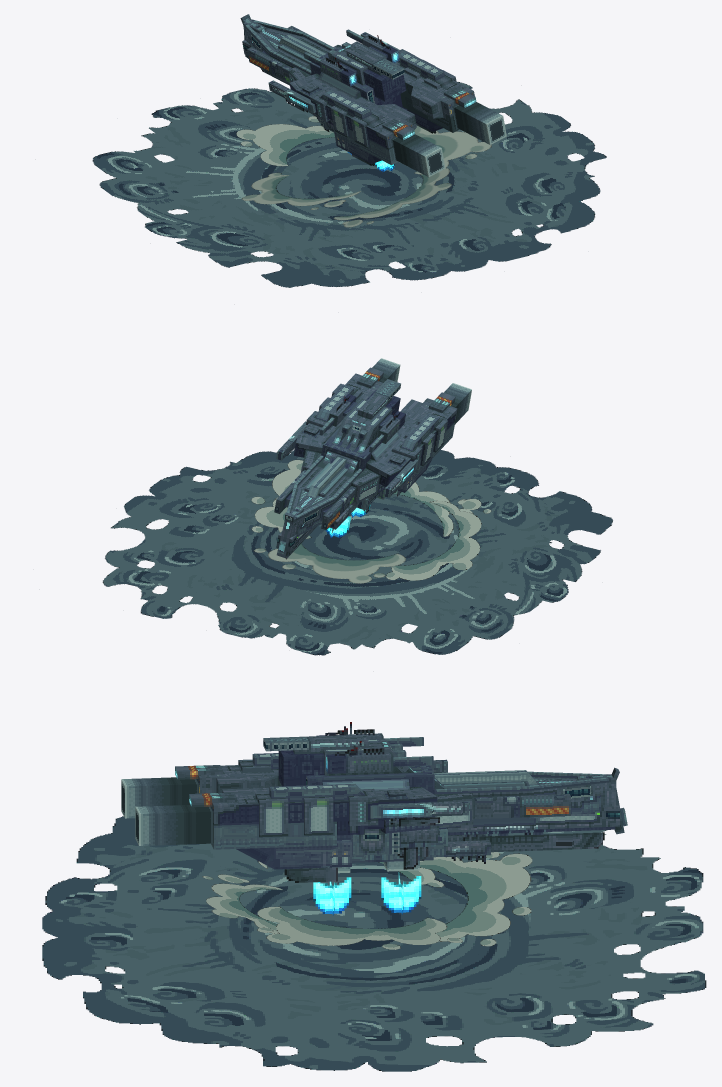
File: the_wayfarer.glb
3 renders of one model, top to bottom at view 1: azimuth 30°, elevation 25°; view 2: azimuth 150°, elevation 25°; view 3: azimuth 270°, elevation 25°, orthographic. The views are drawn at different scales.
Parts seen in each view (by area): view 1: f0af2c5b-dc88-9ddf-b12d-e9630bfd9f96_0, 57337715-59b6-47ca-5ea9-e45e10513886_1, 3dc7dacf-1174-3ba0-c5ff-b0350326ae19_64, 20b73ca1-e7a4-25a7-290d-132799c72fa2_116, 27414f4b-f03e-3735-3f29-a169fc724f23_106, 3848943b-f07e-7232-0a9d-2da7b2187db6_4, 2e194be0-fc9f-4411-7cf4-ac884b552e11_3, 6e76ca55-8b41-b06e-4679-48dc26ff2766_2, d2c0f4ea-a283-9221-ec81-6e6d94c30ba3_68, df5c3a24-41ef-8e7f-8703-fd2f319c1639_26, 2bd50681-401c-4cc3-daf6-1001cb3e12d5_89, 6c488368-3169-f9b1-7eda-4d796c74d6b3_118 (+9 smaller); view 2: f0af2c5b-dc88-9ddf-b12d-e9630bfd9f96_0, 3848943b-f07e-7232-0a9d-2da7b2187db6_4, 57337715-59b6-47ca-5ea9-e45e10513886_1, 2e194be0-fc9f-4411-7cf4-ac884b552e11_3, 27414f4b-f03e-3735-3f29-a169fc724f23_106, 6e76ca55-8b41-b06e-4679-48dc26ff2766_2, fc734b36-bef9-b11f-2d82-0fcc9bb78a55_10, d2c0f4ea-a283-9221-ec81-6e6d94c30ba3_68, 808dd24b-d764-b896-6e3c-7eceed1c6f6b_18, e6f9e6f7-5bd8-29c7-bd6b-326e3d14ffea_92, f7f22e47-a4b3-5bc3-2a0b-1f0e3896bd8a_86, 6f502372-32f2-76c3-6118-f8da0c2b88fb_29 (+3 smaller); view 3: f0af2c5b-dc88-9ddf-b12d-e9630bfd9f96_0, 57337715-59b6-47ca-5ea9-e45e10513886_1, 2e194be0-fc9f-4411-7cf4-ac884b552e11_3, 3dc7dacf-1174-3ba0-c5ff-b0350326ae19_64, d2c0f4ea-a283-9221-ec81-6e6d94c30ba3_68, c78c838b-dc5d-9d07-3f45-9cb386e99f46_50, 20b73ca1-e7a4-25a7-290d-132799c72fa2_116, 89408835-4c3d-7d26-6925-7b0ce92ea5c2_53, 12ef6714-a52f-1508-75ce-2afa383ee228_17, c8cb1846-3f8b-578d-3ea7-d7eb4e18bda9_65, 6e76ca55-8b41-b06e-4679-48dc26ff2766_2, 7b69b814-ecab-a9fd-2702-9100716ac446_12 (+25 smaller).
Part boxes in pixels (<box>): f0af2c5b-dc88-9ddf-b12d-e9630bfd9f96_0: <box>92,82,606,287</box>; 57337715-59b6-47ca-5ea9-e45e10513886_1: <box>236,116,334,166</box>; 3dc7dacf-1174-3ba0-c5ff-b0350326ae19_64: <box>453,102,506,144</box>; 20b73ca1-e7a4-25a7-290d-132799c72fa2_116: <box>392,134,445,177</box>; 27414f4b-f03e-3735-3f29-a169fc724f23_106: <box>296,79,413,149</box>; 3848943b-f07e-7232-0a9d-2da7b2187db6_4: <box>242,172,360,209</box>; 2e194be0-fc9f-4411-7cf4-ac884b552e11_3: <box>414,125,491,174</box>; 6e76ca55-8b41-b06e-4679-48dc26ff2766_2: <box>333,168,451,227</box>; d2c0f4ea-a283-9221-ec81-6e6d94c30ba3_68: <box>400,65,474,117</box>; df5c3a24-41ef-8e7f-8703-fd2f319c1639_26: <box>363,69,406,101</box>; 2bd50681-401c-4cc3-daf6-1001cb3e12d5_89: <box>247,47,292,82</box>; 6c488368-3169-f9b1-7eda-4d796c74d6b3_118: <box>323,89,371,119</box>; f0af2c5b-dc88-9ddf-b12d-e9630bfd9f96_0: <box>102,449,612,655</box>; 3848943b-f07e-7232-0a9d-2da7b2187db6_4: <box>385,498,491,580</box>; 57337715-59b6-47ca-5ea9-e45e10513886_1: <box>254,543,405,583</box>; 2e194be0-fc9f-4411-7cf4-ac884b552e11_3: <box>251,459,311,538</box>; 27414f4b-f03e-3735-3f29-a169fc724f23_106: <box>376,398,457,470</box>; 6e76ca55-8b41-b06e-4679-48dc26ff2766_2: <box>393,482,473,536</box>; fc734b36-bef9-b11f-2d82-0fcc9bb78a55_10: <box>321,427,380,471</box>; d2c0f4ea-a283-9221-ec81-6e6d94c30ba3_68: <box>299,373,383,442</box>; 808dd24b-d764-b896-6e3c-7eceed1c6f6b_18: <box>343,398,392,443</box>; e6f9e6f7-5bd8-29c7-bd6b-326e3d14ffea_92: <box>344,468,385,504</box>; f7f22e47-a4b3-5bc3-2a0b-1f0e3896bd8a_86: <box>290,497,334,537</box>; 6f502372-32f2-76c3-6118-f8da0c2b88fb_29: <box>357,387,392,419</box>; f0af2c5b-dc88-9ddf-b12d-e9630bfd9f96_0: <box>42,816,706,1071</box>; 57337715-59b6-47ca-5ea9-e45e10513886_1: <box>420,852,532,946</box>; 2e194be0-fc9f-4411-7cf4-ac884b552e11_3: <box>257,906,462,949</box>; 3dc7dacf-1174-3ba0-c5ff-b0350326ae19_64: <box>135,805,212,845</box>; d2c0f4ea-a283-9221-ec81-6e6d94c30ba3_68: <box>210,789,414,825</box>; c78c838b-dc5d-9d07-3f45-9cb386e99f46_50: <box>211,821,336,849</box>; 20b73ca1-e7a4-25a7-290d-132799c72fa2_116: <box>121,777,198,818</box>; 89408835-4c3d-7d26-6925-7b0ce92ea5c2_53: <box>473,794,570,818</box>; 12ef6714-a52f-1508-75ce-2afa383ee228_17: <box>463,832,604,852</box>; c8cb1846-3f8b-578d-3ea7-d7eb4e18bda9_65: <box>274,839,351,869</box>; 6e76ca55-8b41-b06e-4679-48dc26ff2766_2: <box>202,874,282,933</box>; 7b69b814-ecab-a9fd-2702-9100716ac446_12: <box>447,805,619,832</box>.
Bounding box in the file's own units: 6.48 × 2.21 × 6.48.
Materials: 1 (1 with a texture image).
